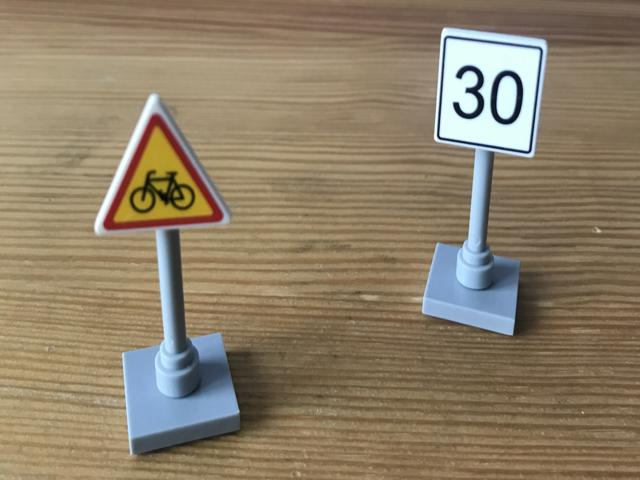radfahrer: (91, 90, 235, 239)
tempolimit 30: (431, 28, 554, 158)
